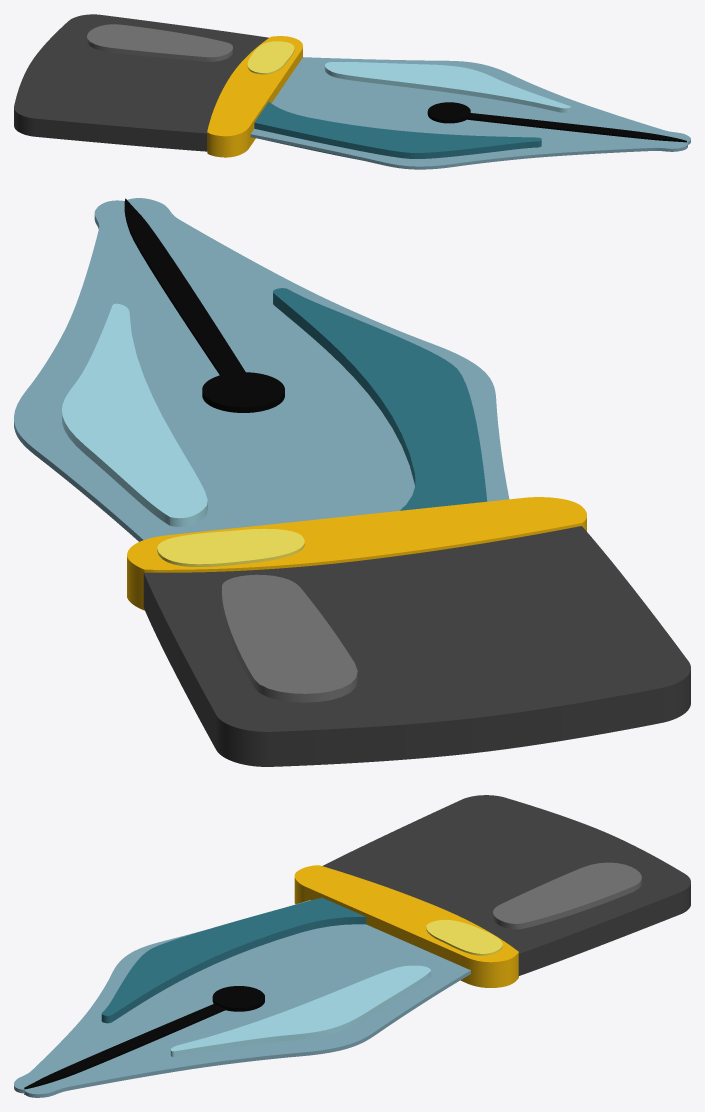
The model's file is emoji_u2712.glb.
3 views of the same model, one above another, from view 1: azimuth 30°, elevation 25°; view 2: azimuth 150°, elevation 25°; view 3: azimuth 270°, elevation 25° (orthographic). The views are drawn at different scales.
Visible parts, largest first — view 1: emoji_u2712; view 2: emoji_u2712; view 3: emoji_u2712.
Part boxes in pixels (bbox=[...]): emoji_u2712: bbox=[14, 14, 690, 169]; emoji_u2712: bbox=[14, 198, 690, 766]; emoji_u2712: bbox=[14, 795, 690, 1097].
Size of the model in its own units: 0.0336 by 0.0018 by 0.0332.
